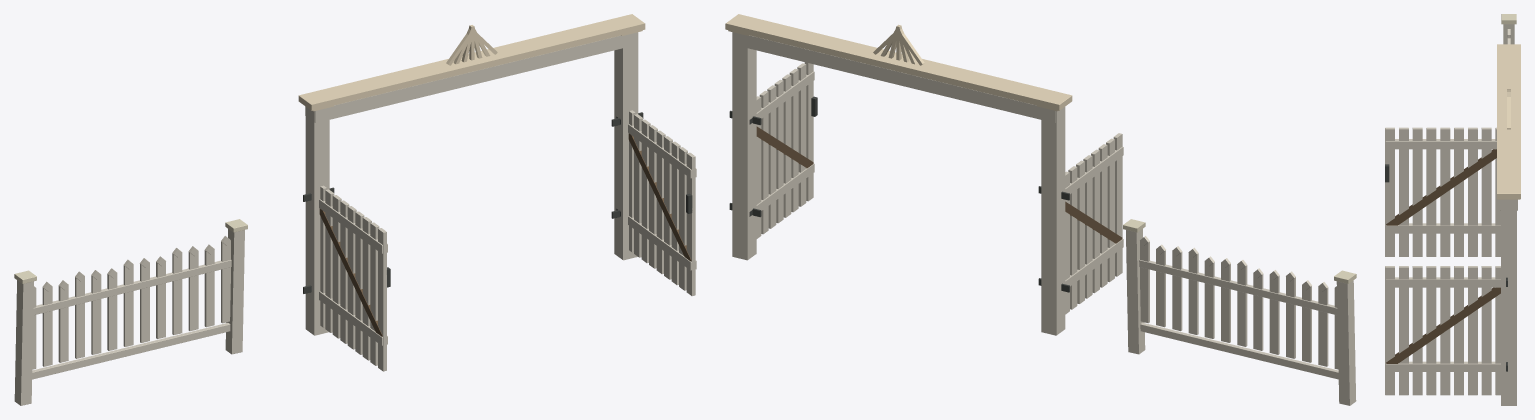
The model's file is rough-picket-family-source.glb.
The picture shows the model from 3 angles, left to right: view 1: azimuth 30°, elevation 25°; view 2: azimuth 150°, elevation 25°; view 3: azimuth 270°, elevation 25°; orthographic projection. The views are drawn at different scales.
Visible parts, largest first — view 1: Gate_HeaderCap, Gate_Header, Gate_Post_0, Gate_Post_1, Bay_Post_0, Bay_BearingRail_0, Bay_Post_1, Bay_BearingRail_1, CartLeaf_0_Board_08, CartLeaf_1_Board_08, CartLeaf_0_Board_04, CartLeaf_0_Board_06 (+31 smaller); view 2: Gate_HeaderCap, Gate_Post_0, Gate_Post_1, Gate_Header, Bay_Post_0, Bay_BearingRail_0, Bay_Post_1, Bay_BearingRail_1, CartLeaf_1_Board_03, CartLeaf_1_Board_07, CartLeaf_1_Board_05, CartLeaf_0_Board_08 (+29 smaller); view 3: Gate_HeaderCap, Gate_Post_1, CartLeaf_0_Board_01, CartLeaf_0_Board_04, CartLeaf_1_Board_04, CartLeaf_0_Board_05, CartLeaf_0_Board_06, CartLeaf_1_Board_01, CartLeaf_1_Board_06, CartLeaf_1_Board_05, CartLeaf_1_Brace, CartLeaf_1_Board_08 (+16 smaller).
Part boxes in pixels (x1,y1,x2,y2): Gate_HeaderCap: (298, 14, 645, 110); Gate_Header: (305, 32, 638, 123); Gate_Post_0: (305, 107, 329, 335); Gate_Post_1: (614, 44, 638, 260); Bay_Post_0: (14, 280, 33, 405); Bay_BearingRail_0: (32, 322, 230, 379); Bay_Post_1: (225, 229, 244, 354); Bay_BearingRail_1: (33, 260, 231, 315); CartLeaf_0_Board_08: (378, 228, 386, 371); CartLeaf_1_Board_08: (686, 152, 695, 295); CartLeaf_0_Board_04: (347, 206, 356, 349); CartLeaf_0_Board_06: (362, 217, 371, 360); Gate_HeaderCap: (725, 14, 1072, 110); Gate_Post_0: (1041, 107, 1065, 335); Gate_Post_1: (732, 44, 756, 260); Gate_Header: (732, 32, 1055, 123); Bay_Post_0: (1336, 280, 1356, 405); Bay_BearingRail_0: (1140, 322, 1338, 379); Bay_Post_1: (1126, 229, 1145, 354); Bay_BearingRail_1: (1139, 259, 1337, 315); CartLeaf_1_Board_03: (767, 85, 776, 228); CartLeaf_1_Board_07: (797, 63, 806, 206); CartLeaf_1_Board_05: (782, 74, 791, 217); CartLeaf_0_Board_08: (1113, 133, 1122, 276); Gate_HeaderCap: (1497, 44, 1520, 199); Gate_Post_1: (1501, 199, 1516, 405); CartLeaf_0_Board_01: (1481, 127, 1491, 256); CartLeaf_0_Board_04: (1440, 127, 1450, 256); CartLeaf_1_Board_04: (1440, 266, 1450, 395); CartLeaf_0_Board_05: (1426, 127, 1436, 256); CartLeaf_0_Board_06: (1412, 127, 1422, 256); CartLeaf_1_Board_01: (1481, 266, 1491, 395); CartLeaf_1_Board_06: (1412, 266, 1422, 395); CartLeaf_1_Board_05: (1426, 266, 1436, 395); CartLeaf_1_Brace: (1386, 287, 1500, 363); CartLeaf_1_Board_08: (1385, 266, 1394, 395).
Bounding box in the file's own units: 6.95 × 2.85 × 1.43.
